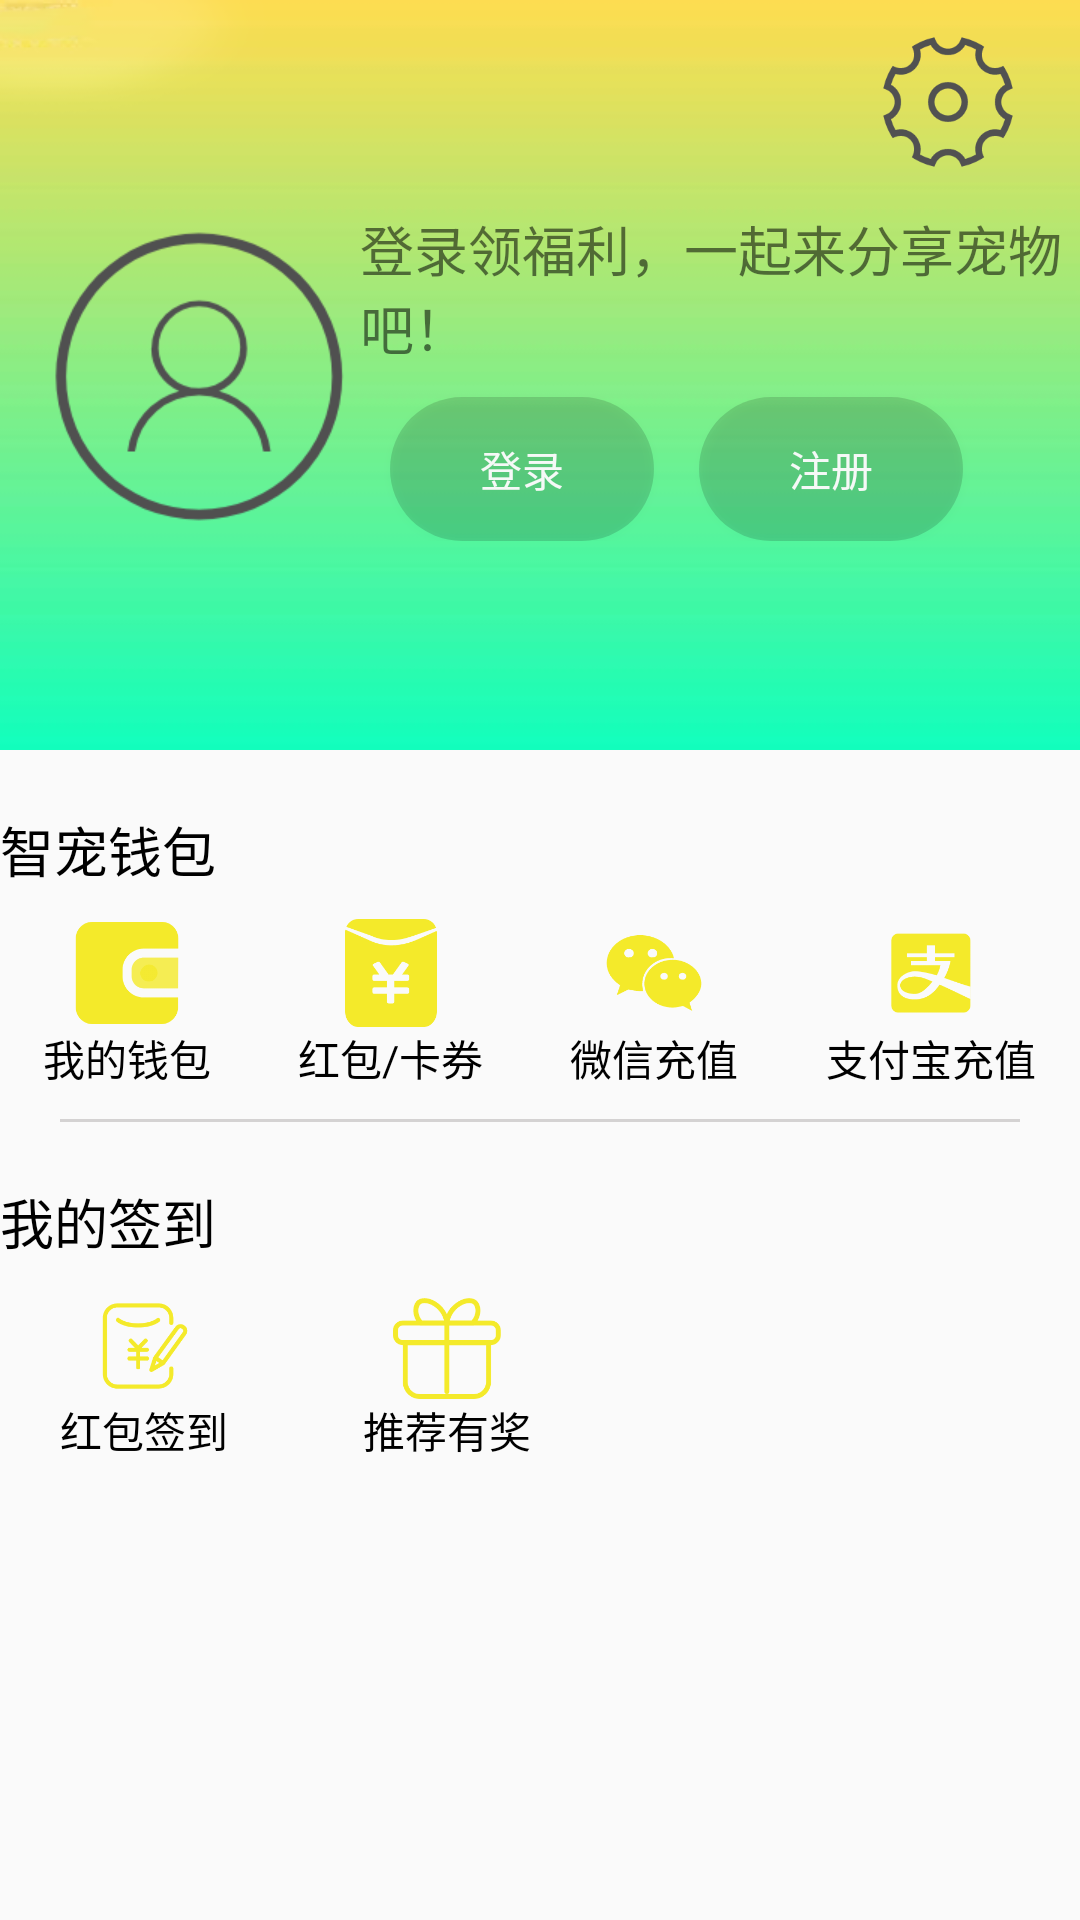

Screen size 1080px x 1920px. Icon name, then its center in pixels as [x,y]:
setting: [948,102]
